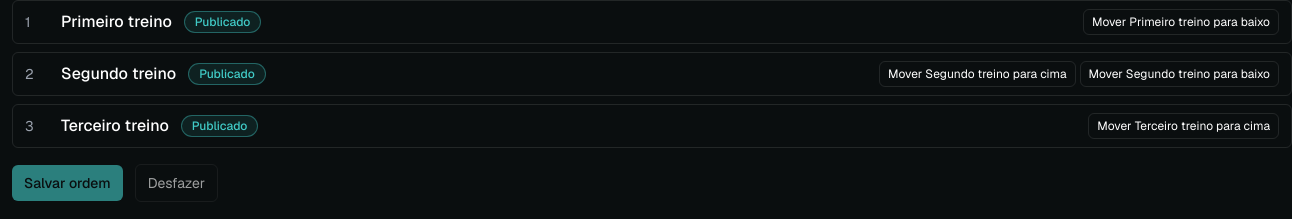
Test: ReorderList: salvar e desfazer › 'Desfazer' volta à ordem original
Click the button "Mover Primeiro treino para baixo" at (1181, 22), box [1083, 9, 1279, 35]
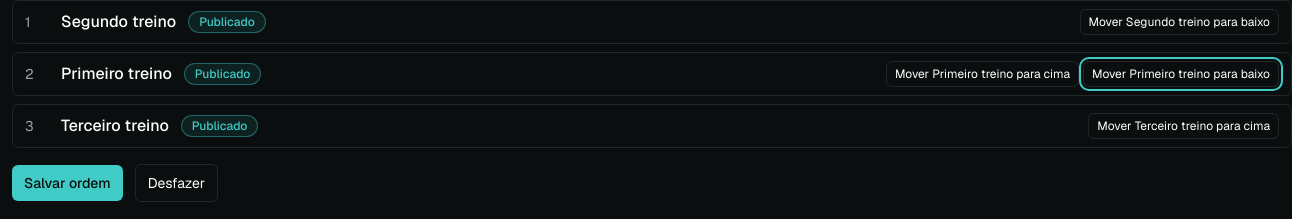
Click the button "Desfazer" at (176, 183), box [135, 164, 218, 202]
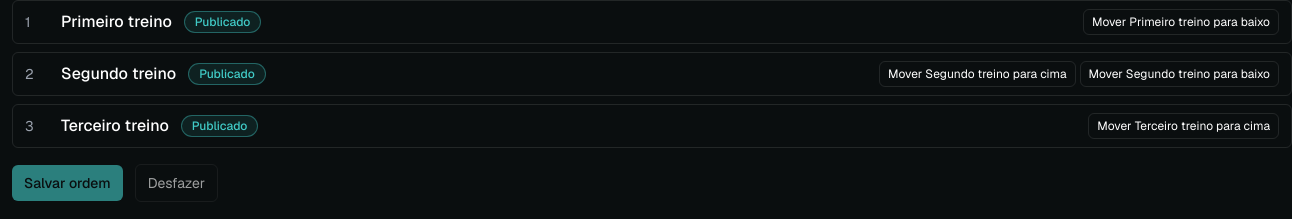
Check: the button "Salvar ordem" is disabled, box [12, 165, 123, 201]
